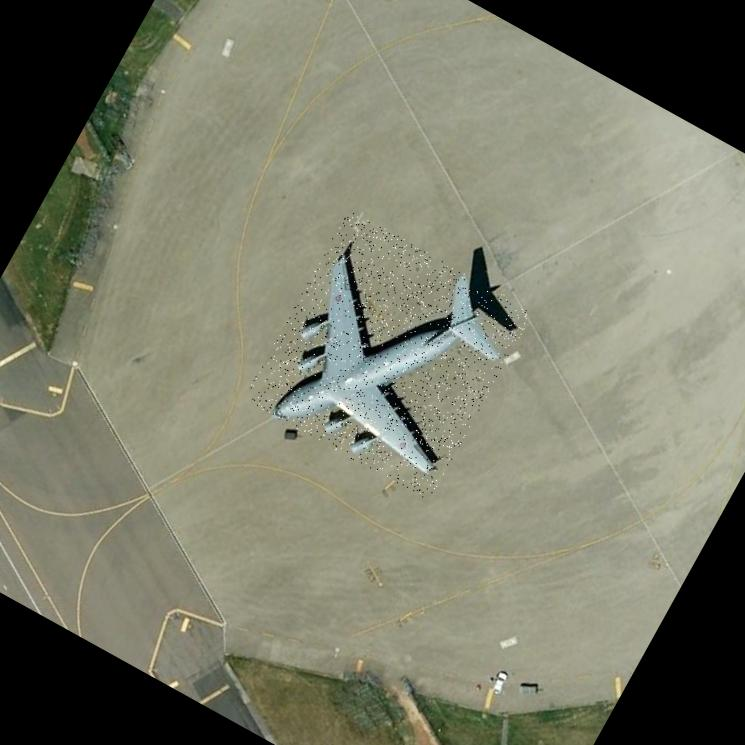A3: (242, 208, 534, 500)
